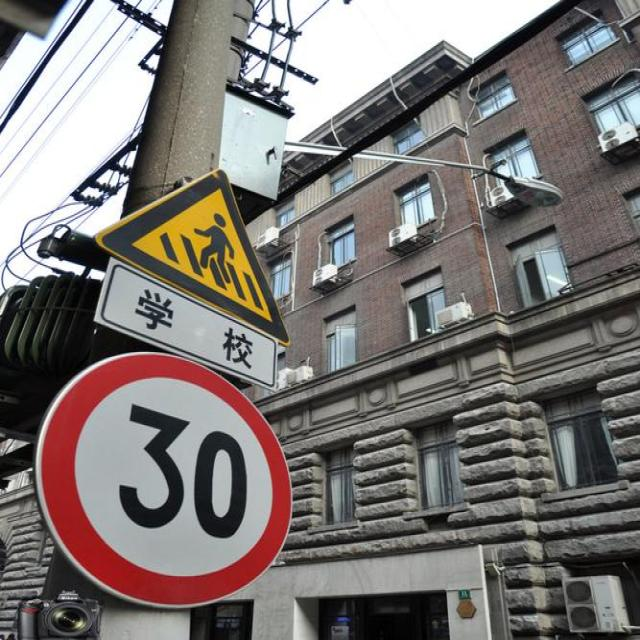speed limit 30: (35, 354, 291, 612)
